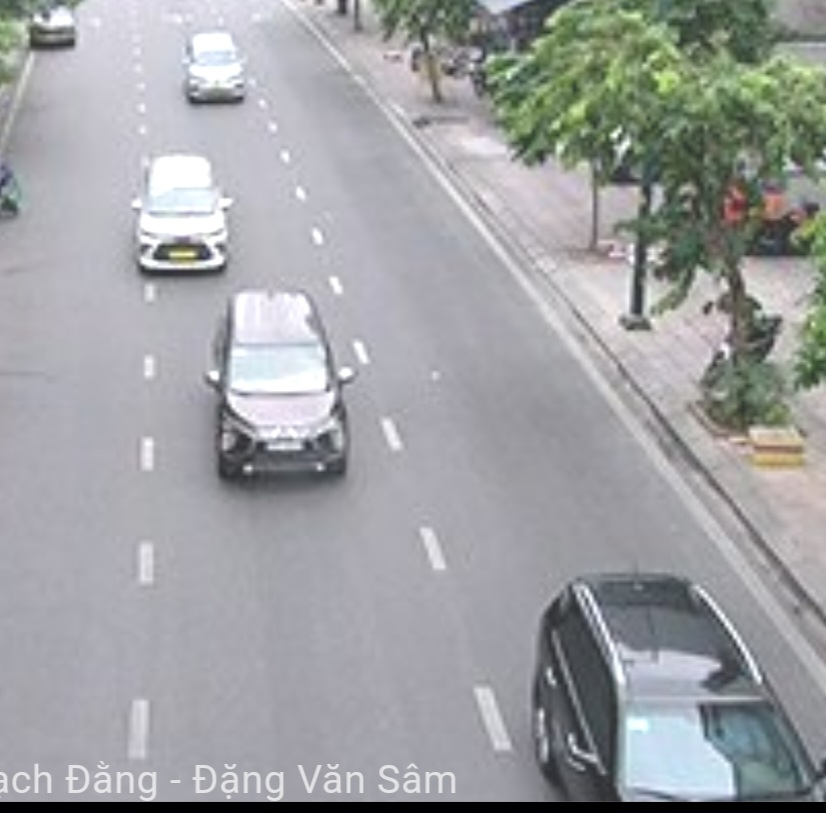car: (541, 579, 820, 801), (215, 290, 348, 479), (136, 154, 227, 274), (184, 31, 245, 103)
